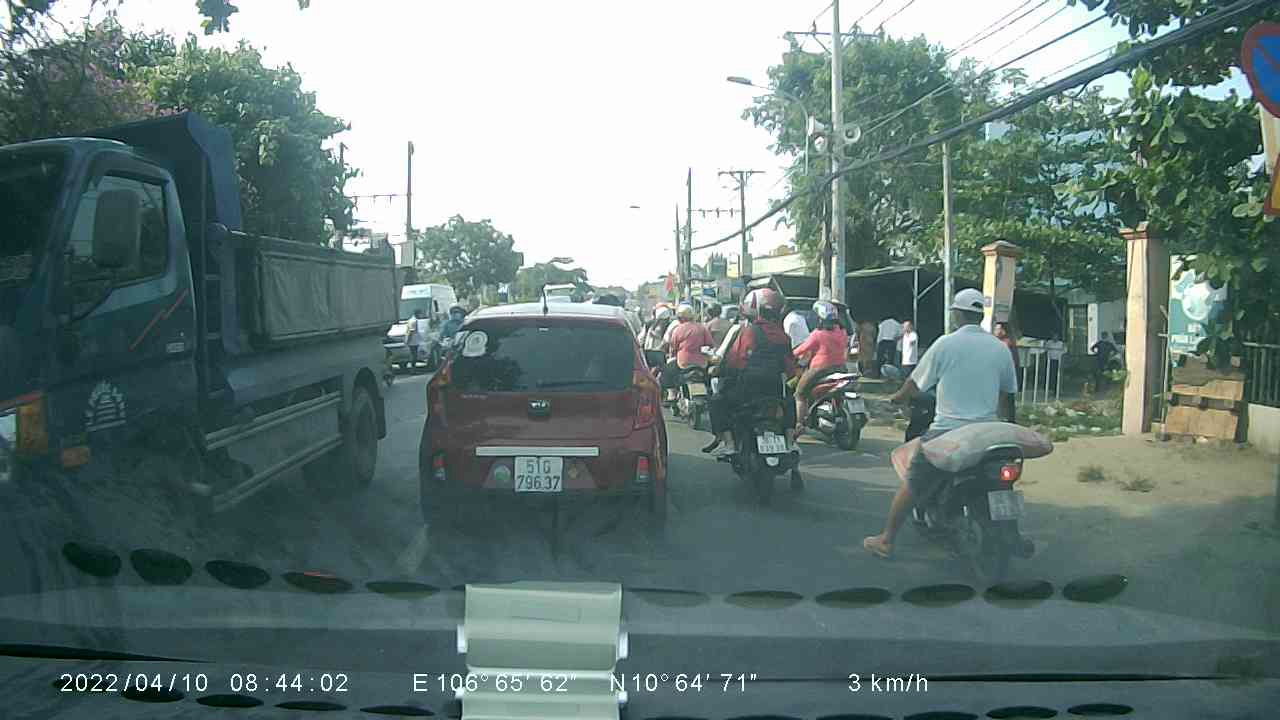Cam do xe: (1238, 19, 1279, 128)
